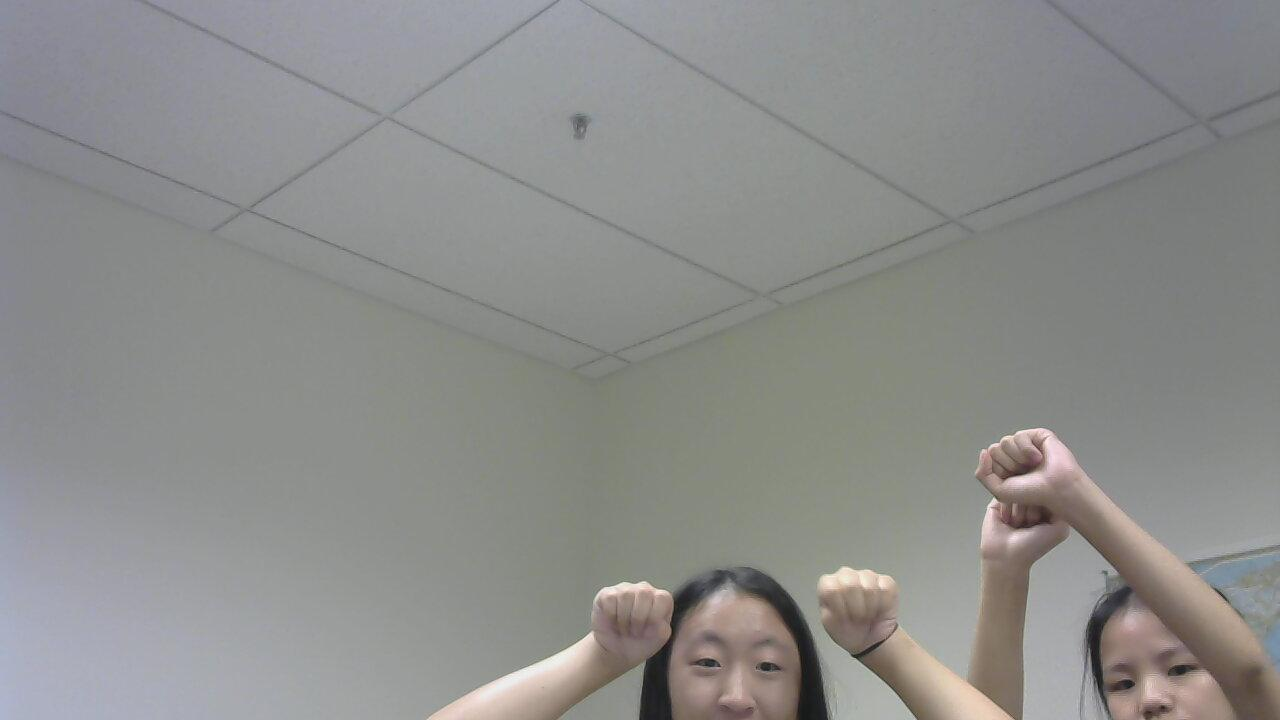fist: (811, 552, 942, 673), (966, 407, 1109, 503), (963, 472, 1085, 571), (561, 574, 682, 661)
